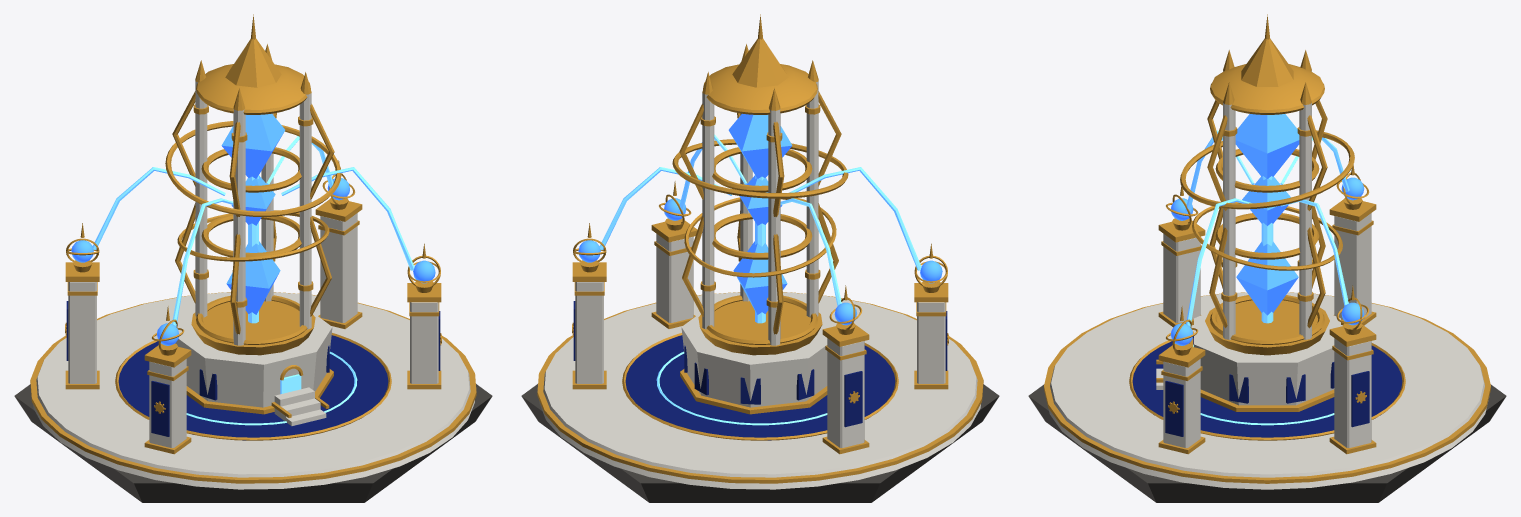
Rendered from zeus_structure_stormglass_relay.glb.
3 renders of one model, left to right at view 1: azimuth 30°, elevation 25°; view 2: azimuth 150°, elevation 25°; view 3: azimuth 270°, elevation 25°, orthographic.
Visible parts, largest first — view 1: zeus_structure_stormglass_relay; view 2: zeus_structure_stormglass_relay; view 3: zeus_structure_stormglass_relay.
Part boxes in pixels (x1,y1,x2,y2): zeus_structure_stormglass_relay: (14,14,492,502); zeus_structure_stormglass_relay: (521,14,999,502); zeus_structure_stormglass_relay: (1028,14,1506,502).
Bounding box in the file's own units: 1.57 × 1.58 × 1.68.
1 material, 1 textured.
